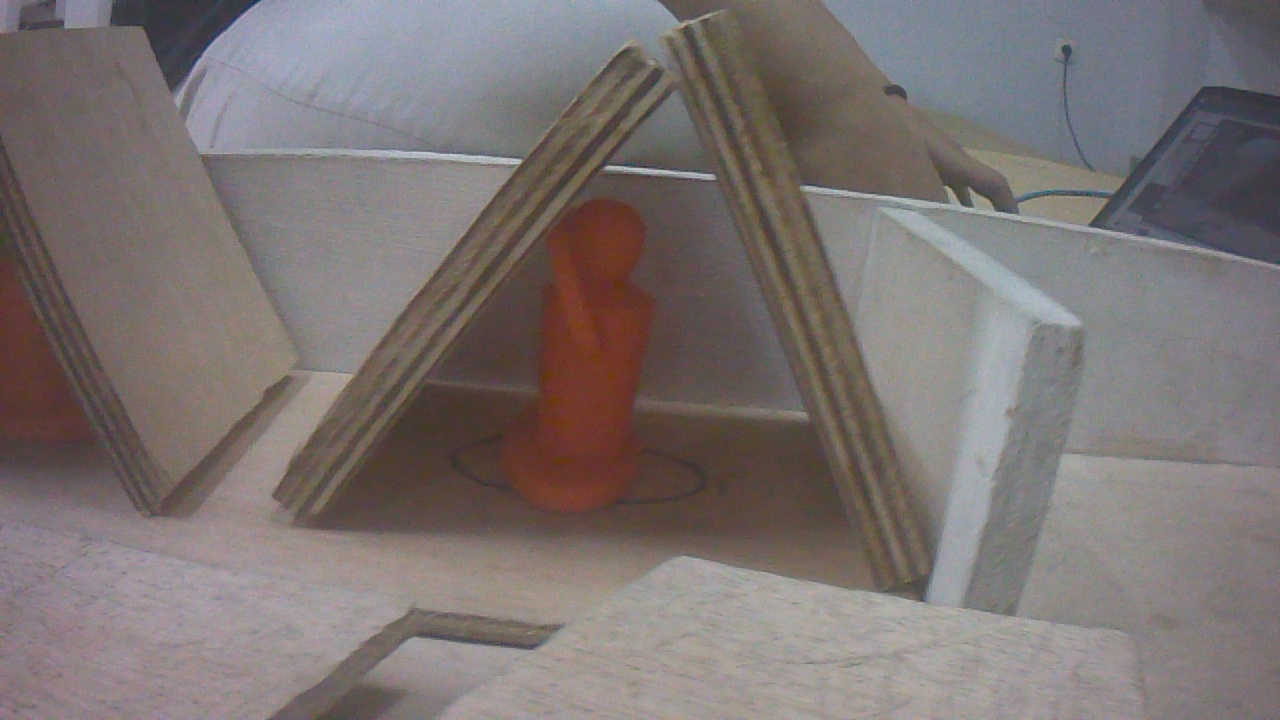real: (500, 199, 660, 515)
